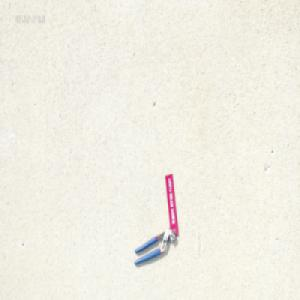Label: (165, 170, 178, 233)
Pliers: (133, 227, 175, 265)
